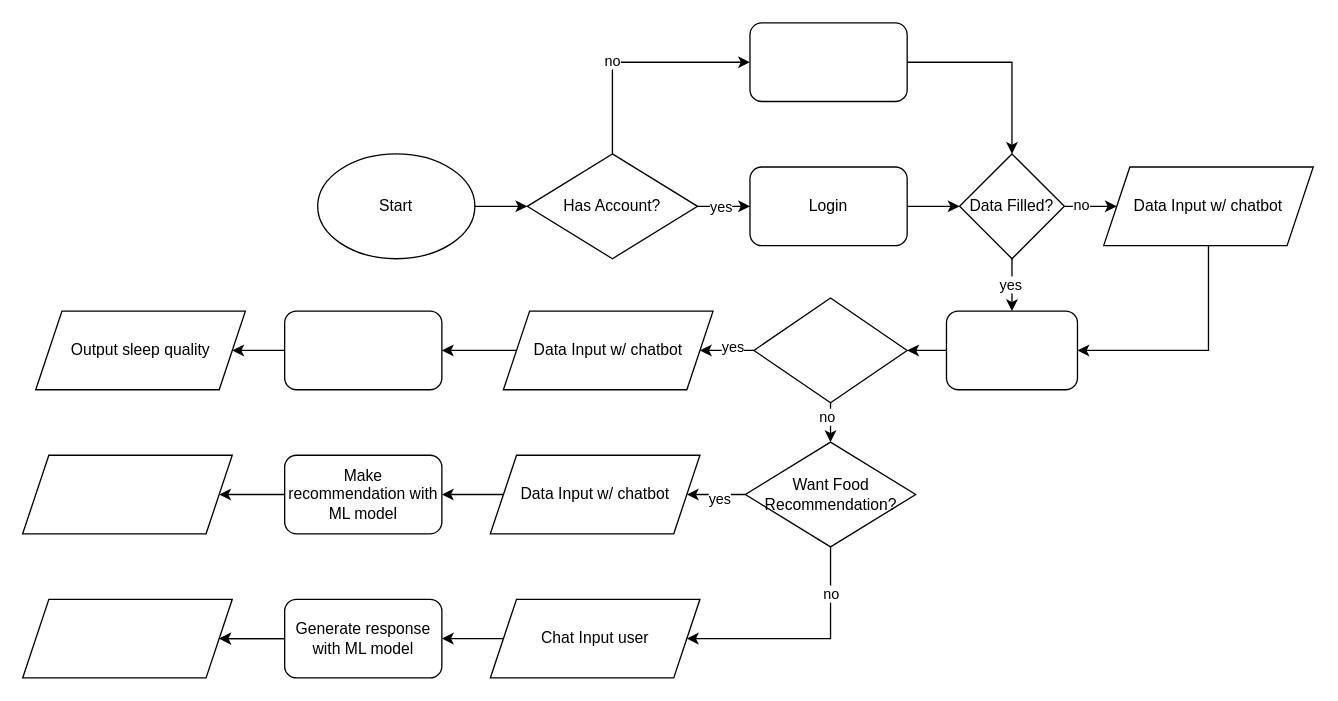
The diagram is 1338 pixels wide and 701 high, and some of its shapes have lost their labels. The centre of each missing label's shape, as x and y in pixels:
Calculate Sleep Quality?: the point at 830,350
Calculate with ML model: the point at 362,350
Menu: the point at 1011,350
Output food recommendation: the point at 126,494
Output response: the point at 126,638
Register: the point at 828,62
